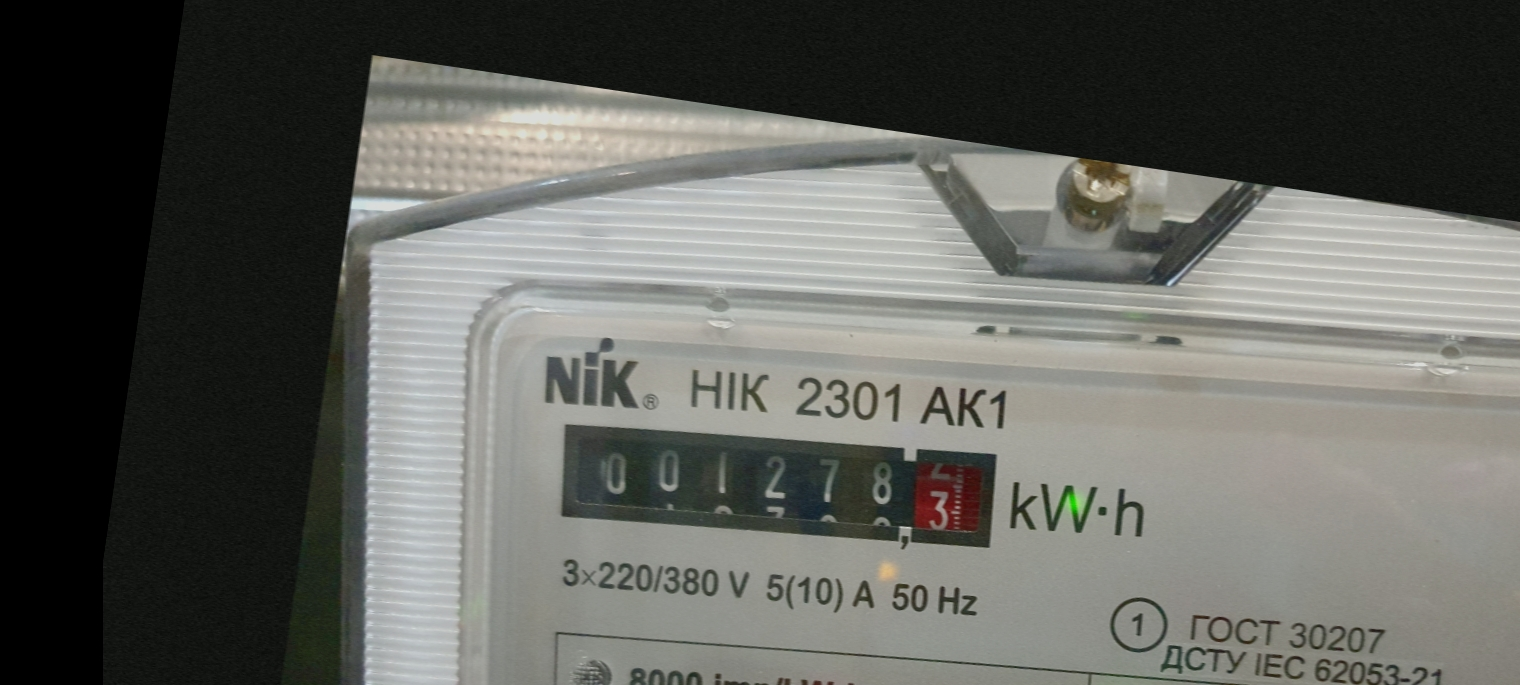0: (599, 444, 633, 495), (651, 442, 684, 492)
1: (710, 444, 734, 493)
2: (758, 450, 791, 500), (927, 456, 953, 479)
3: (921, 484, 954, 531)
7: (811, 452, 840, 502)
8: (867, 456, 897, 503)
screen: (536, 375, 1020, 589)
